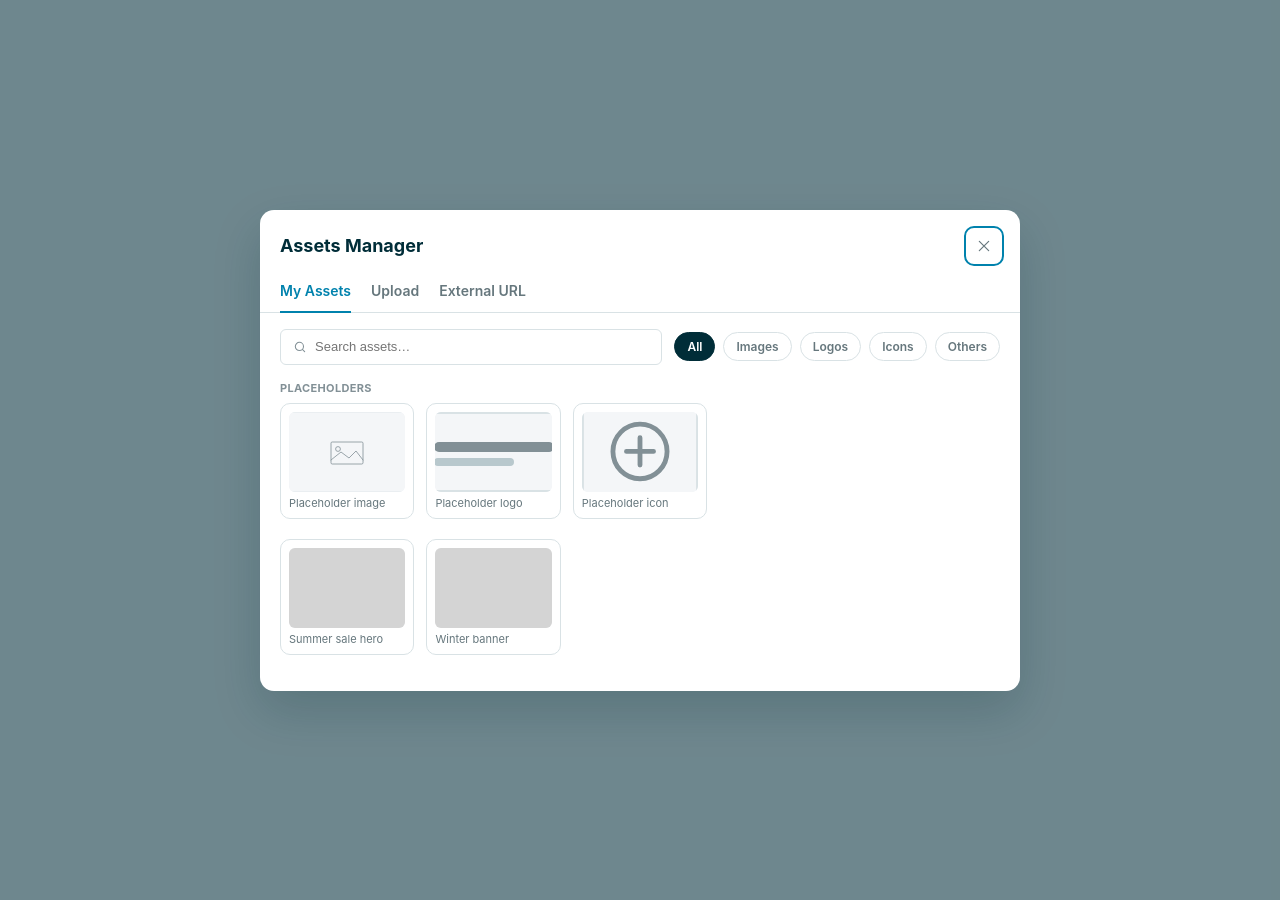
Scenario: AssetManagerDialog — browse › search filters the grid by name
The width and height of the screenshot is (1280, 900).
Expected: the text "Summer sale hero" is shown, top-left (289, 632), bottom-right (383, 646)
Type "summer" into the search field labelled "Search assets" at (481, 346), box top-left (313, 338), bottom-right (649, 355)
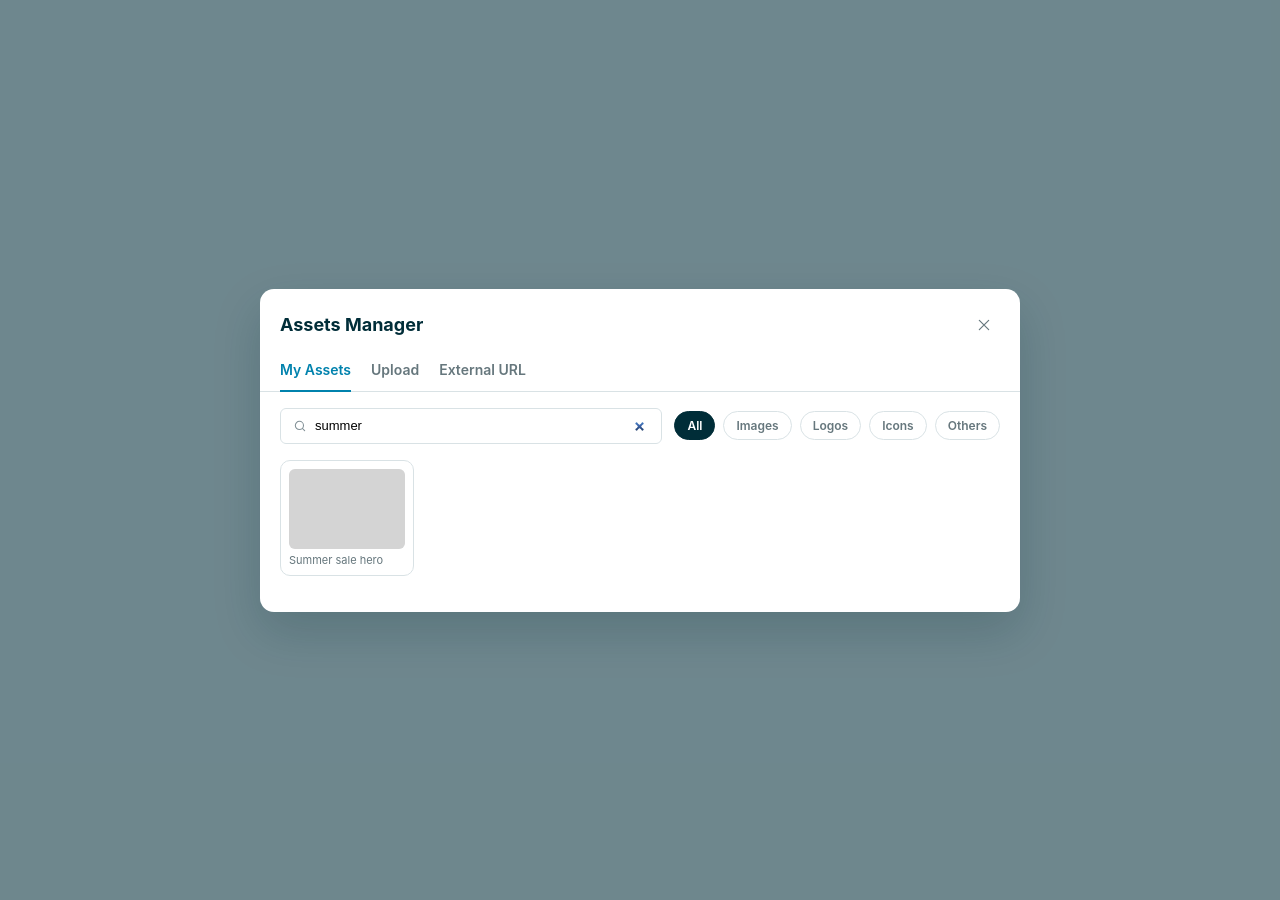
Expected: the text "Summer sale hero" is shown, top-left (289, 552), bottom-right (383, 566)
Expected: the button "Winter banner" is gone
